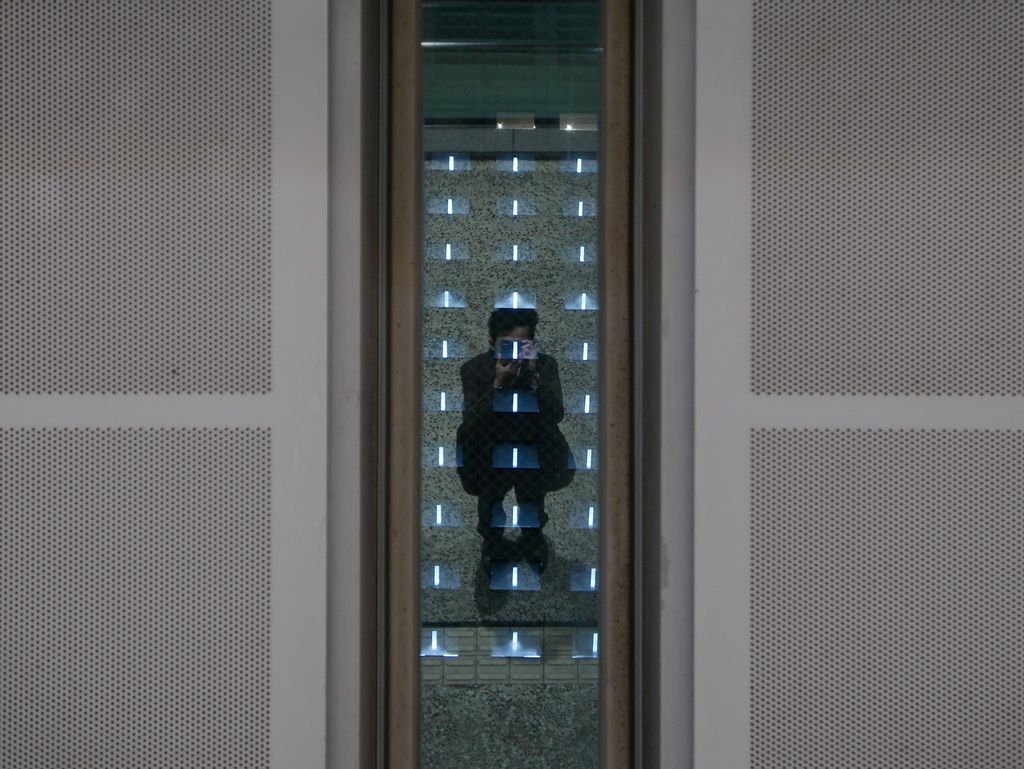person: (455, 303, 575, 600)
